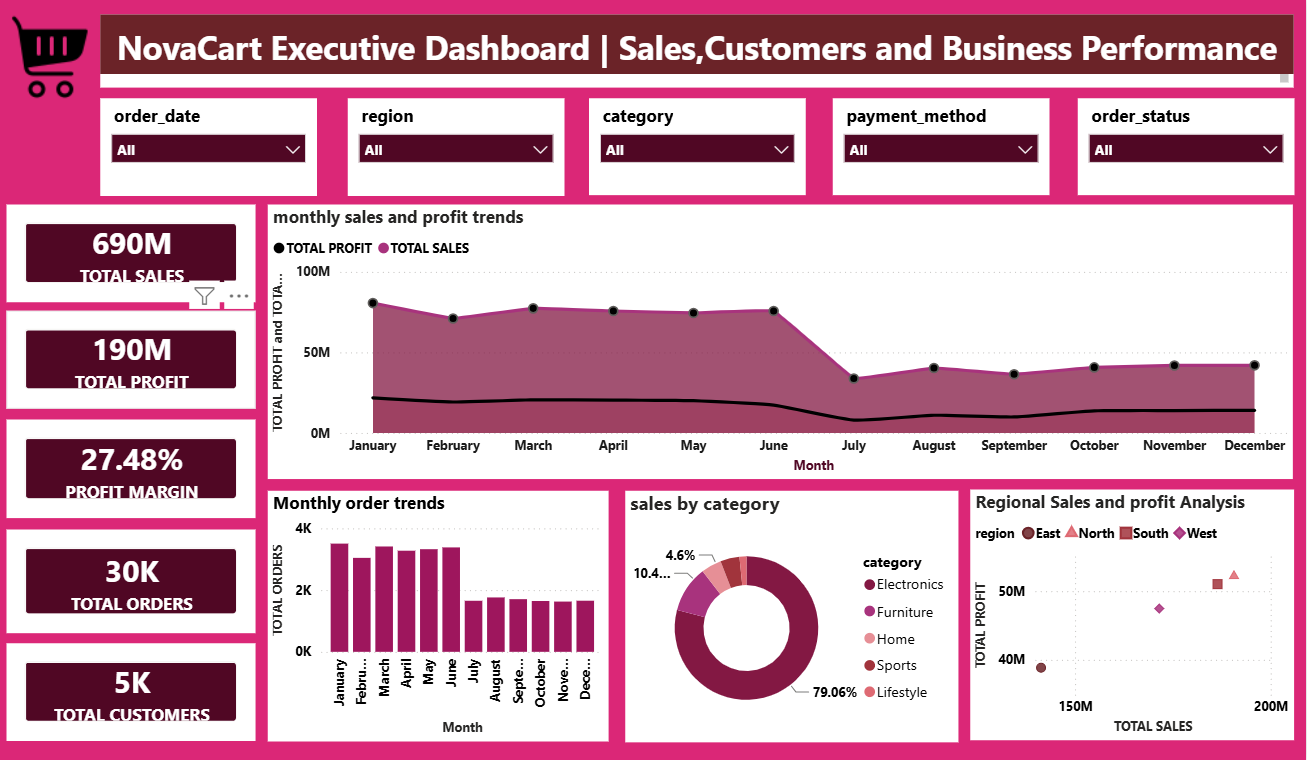

Layout of this report page (visuals, bound fields, positions):
{"tool":"powerbi","page":{"name":"Executive dashboard","canvas":[1236,720],"ordinal":0},"visuals":[{"type":"textbox","title":"NovaCart Executive Dashboard | Sales,Customers and Business Performance","box":[100.1,16.9,1123.2,68.8],"z":0},{"type":"cardVisual","fields":{"Data":["excel cleaned(Sheet1).TOTAL SALES"]},"box":[12.1,195.4,234,91.7],"z":1000},{"type":"cardVisual","fields":{"Data":["novacart.TOTAL PROFIT"]},"box":[12.1,295.6,234,91.7],"z":2000},{"type":"cardVisual","fields":{"Data":["novacart.PROFIT MARGIN"]},"box":[12.1,398.1,234,92.9],"z":3000},{"type":"cardVisual","fields":{"Data":["novacart.TOTAL ORDERS"]},"box":[12.1,500.7,234,97.7],"z":4000},{"type":"cardVisual","fields":{"Data":["novacart.TOTAL CUSTOMERS"]},"box":[12.1,608,234,91.7],"z":5000},{"type":"slicer","fields":{"Values":["novacart.order_status"]},"box":[1019.8,95.1,203.7,91.4],"z":6000},{"type":"slicer","fields":{"Values":["novacart.region"]},"box":[333,95.3,203.9,91.7],"z":7000},{"type":"slicer","fields":{"Values":["novacart.category"]},"box":[560.5,95.1,203.7,91.4],"z":8000},{"type":"slicer","fields":{"Values":["novacart.payment_method"]},"box":[788.9,95.1,203.7,91.4],"z":9000},{"type":"lineChart","title":"monthly sales and profit trends","fields":{"Category":["novacart.order_date.Variation.Date Hierarchy.Month"],"Y":["novacart.TOTAL PROFIT","novacart.TOTAL SALES"]},"box":[258.2,195.4,965.2,258.2],"z":10000},{"type":"slicer","fields":{"Values":["novacart.order_date"]},"box":[100.1,95.3,203.9,91.7],"z":11000},{"type":"clusteredColumnChart","title":"Monthly order trends","fields":{"Category":["novacart.order_date.Variation.Date Hierarchy.Month"],"Y":["novacart.TOTAL ORDERS"]},"box":[258,464.2,321,235.8],"z":12000},{"type":"donutChart","title":"sales by category","fields":{"Category":["novacart.category"],"Y":["novacart.TOTAL SALES"]},"box":[593.6,464.5,313.7,236.5],"z":13000},{"type":"scatterChart","title":"Regional Sales and profit Analysis","fields":{"X":["novacart.TOTAL SALES"],"Y":["novacart.TOTAL PROFIT"],"Series":["novacart.region"]},"box":[918.5,463,304.9,235.8],"z":14000},{"type":"image","box":[11.8,17.2,81.4,77.8],"z":15000}]}

Visuals, with their boxes in screenshot pixels (x1, y1, x2, y2), scaled from the page's 1236x720 canvas onto the 1307x760 screenshot:
"NovaCart Executive Dashboard | Sales,Customers and Business Performance" textbox: BBox(106, 18, 1294, 90)
cardVisual - excel cleaned(Sheet1).TOTAL SALES: BBox(13, 206, 260, 303)
cardVisual - novacart.TOTAL PROFIT: BBox(13, 312, 260, 409)
cardVisual - novacart.PROFIT MARGIN: BBox(13, 420, 260, 518)
cardVisual - novacart.TOTAL ORDERS: BBox(13, 529, 260, 632)
cardVisual - novacart.TOTAL CUSTOMERS: BBox(13, 642, 260, 739)
slicer - novacart.order_status: BBox(1078, 100, 1294, 197)
slicer - novacart.region: BBox(352, 101, 568, 197)
slicer - novacart.category: BBox(593, 100, 808, 197)
slicer - novacart.payment_method: BBox(834, 100, 1050, 197)
"monthly sales and profit trends" lineChart: BBox(273, 206, 1294, 479)
slicer - novacart.order_date: BBox(106, 101, 321, 197)
"Monthly order trends" clusteredColumnChart: BBox(273, 490, 612, 739)
"sales by category" donutChart: BBox(628, 490, 959, 740)
"Regional Sales and profit Analysis" scatterChart: BBox(971, 489, 1294, 738)
image: BBox(12, 18, 99, 100)
